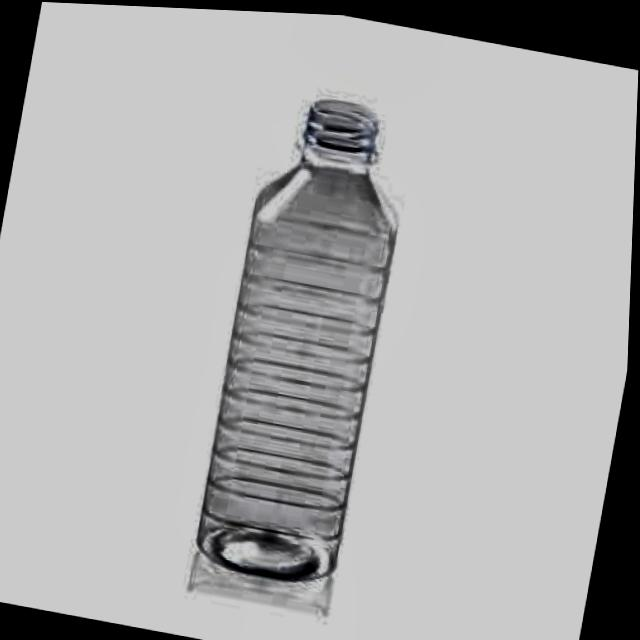Bottles: (164, 61, 458, 623)
